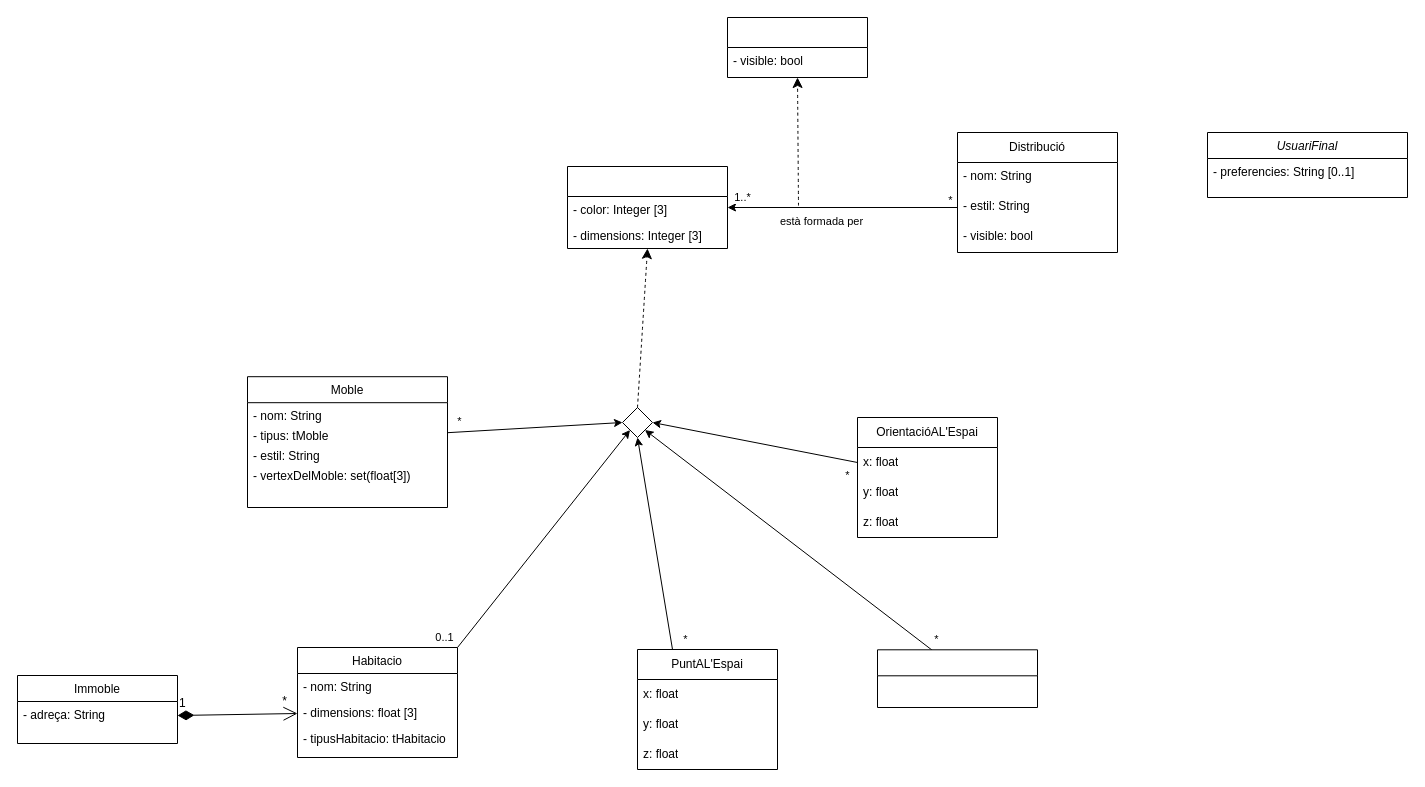
Some shapes in this 1425 by 787 pixel diagram are drawn without their labels. The shapes that lost their labels are listed below. From the top down, each one's box as (x1, y1, x2, y2) in pixels, then its label:
(726, 16, 868, 78): MobleDistribució
(566, 166, 728, 248): MobleCol·locat
(876, 649, 1038, 708): Visita
